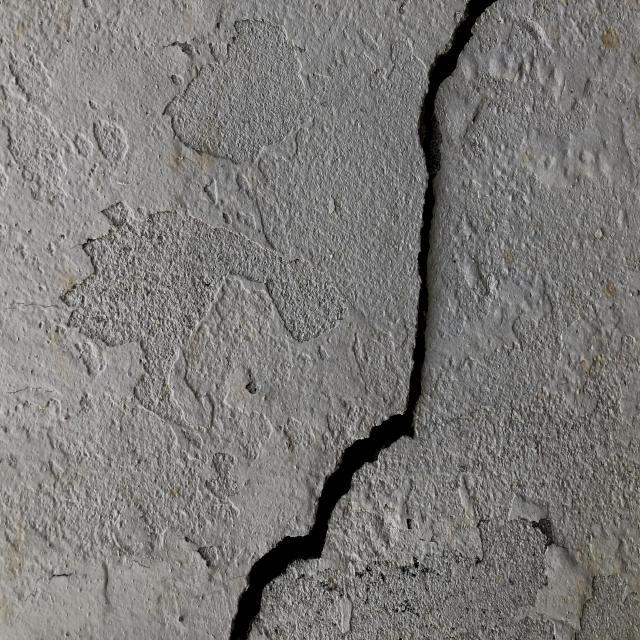SurfaceCrack: (186, 0, 534, 639)
